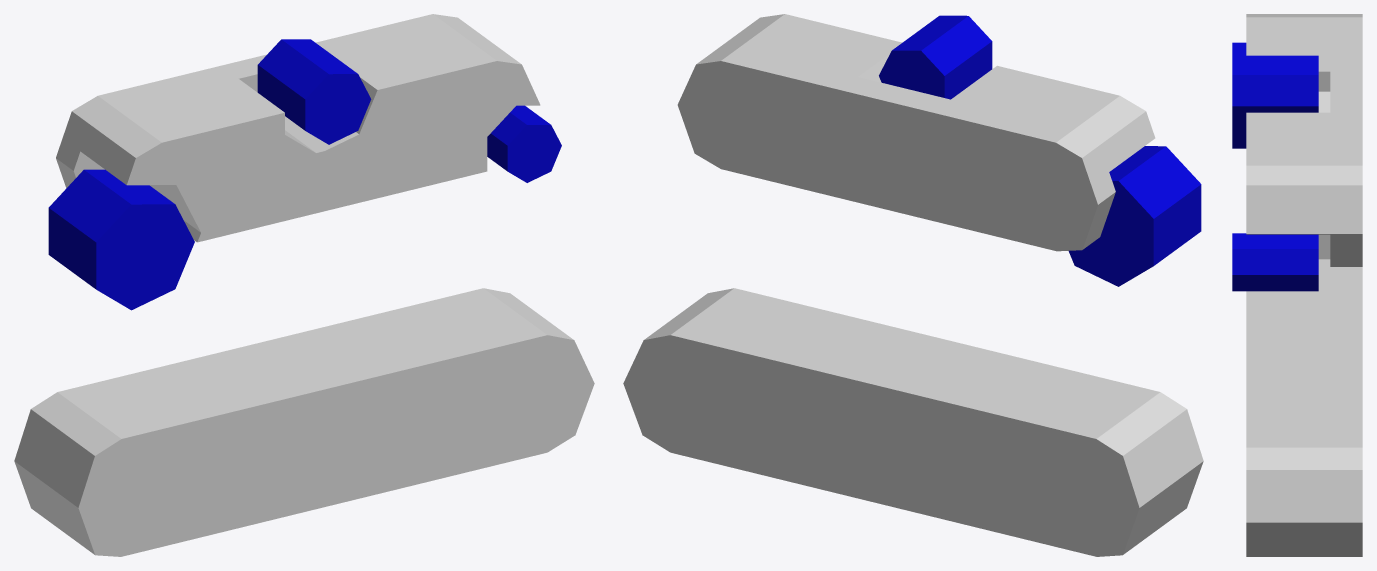
File: Ch_Lite_China_二_01.fbx
3 renders of one model, left to right at view 1: azimuth 30°, elevation 25°; view 2: azimuth 150°, elevation 25°; view 3: azimuth 270°, elevation 25°, orthographic. The views are drawn at different scales.
Parts seen in each view (by area): view 1: sphere1; view 2: sphere1; view 3: sphere1.
Boxes of the visible parts, x1,y1,x2,y2 form: sphere1: [14, 14, 594, 556]; sphere1: [623, 14, 1203, 556]; sphere1: [1232, 14, 1362, 556].
Size of the model in its own units: 0.9292 by 0.7562 by 0.2242.
